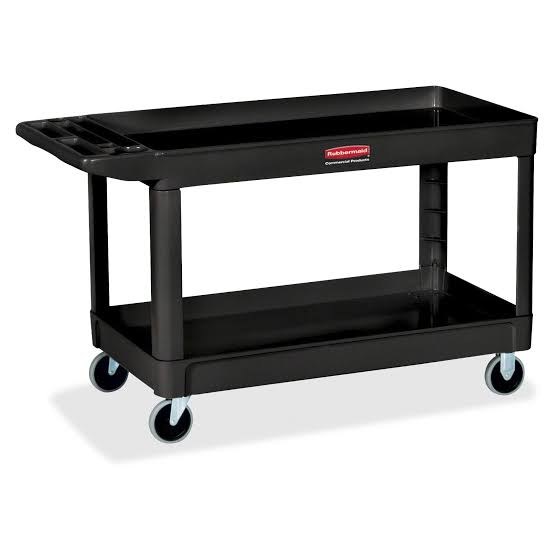Carts: (14, 85, 540, 445)
